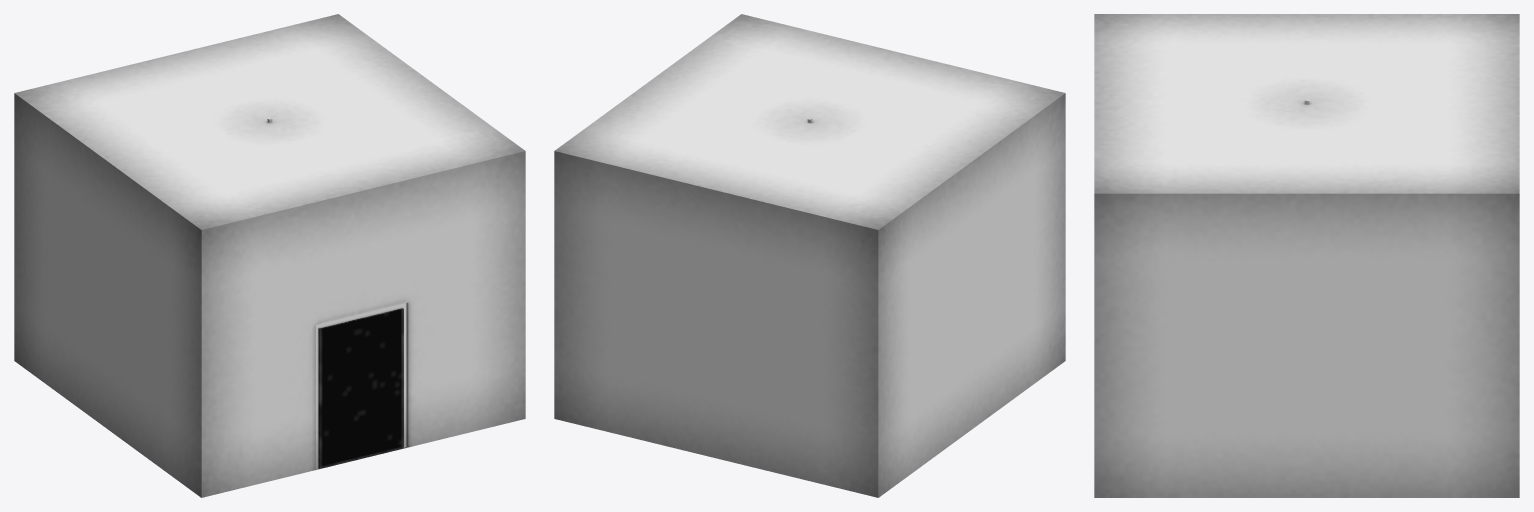
File: Room.fbx
The picture shows the model from 3 angles, left to right: view 1: azimuth 30°, elevation 25°; view 2: azimuth 150°, elevation 25°; view 3: azimuth 270°, elevation 25°; orthographic projection. The views are drawn at different scales.
Visible parts, largest first — view 1: Cube; view 2: Cube; view 3: Cube.
Boxes of the visible parts, bbox=[...] form: Cube: bbox=[14, 14, 525, 497]; Cube: bbox=[554, 14, 1065, 497]; Cube: bbox=[1094, 14, 1519, 497].
Bounding box in the file's own units: 57.07 × 45.63 × 57.07.
1 material, 1 textured.
